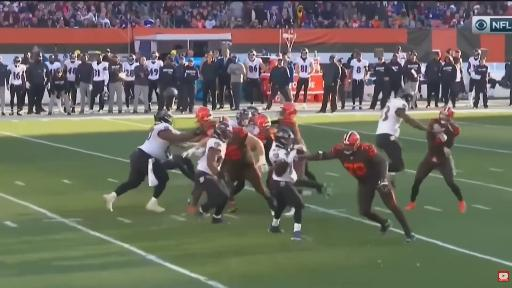Helmet: (275, 127, 294, 149), (342, 131, 360, 153), (213, 122, 232, 142), (154, 110, 173, 125), (196, 107, 211, 124), (439, 106, 454, 123), (280, 103, 297, 118), (398, 89, 413, 104), (254, 115, 270, 129), (237, 109, 250, 126), (247, 106, 259, 115), (248, 50, 256, 59), (301, 48, 308, 58), (14, 56, 21, 65), (70, 52, 77, 61), (128, 54, 135, 63), (151, 51, 158, 60), (48, 55, 55, 63)
Jersey: (331, 143, 387, 184), (427, 119, 460, 163), (139, 123, 179, 159), (376, 99, 408, 137), (270, 143, 297, 182), (197, 138, 226, 174), (225, 127, 248, 161), (279, 118, 301, 143), (8, 64, 26, 85), (350, 59, 368, 79), (146, 60, 163, 80), (244, 58, 261, 78), (296, 58, 313, 78), (65, 60, 81, 81), (123, 62, 139, 81), (92, 62, 108, 81), (201, 120, 217, 136), (468, 57, 479, 78), (46, 62, 61, 75), (245, 125, 259, 135), (230, 120, 239, 127)
Player: (299, 131, 415, 241), (103, 110, 202, 212), (406, 107, 466, 213), (376, 90, 426, 185), (223, 127, 274, 211), (269, 128, 304, 240), (195, 122, 232, 223), (253, 115, 276, 194), (182, 107, 218, 157), (278, 103, 306, 154), (294, 48, 314, 108), (244, 51, 265, 104), (349, 51, 368, 109), (90, 55, 109, 113), (7, 57, 26, 115), (64, 53, 81, 113), (146, 52, 163, 110), (123, 55, 139, 111), (467, 49, 481, 106), (196, 107, 217, 136), (231, 109, 251, 128), (46, 55, 61, 78), (46, 55, 61, 75), (247, 106, 259, 116)
